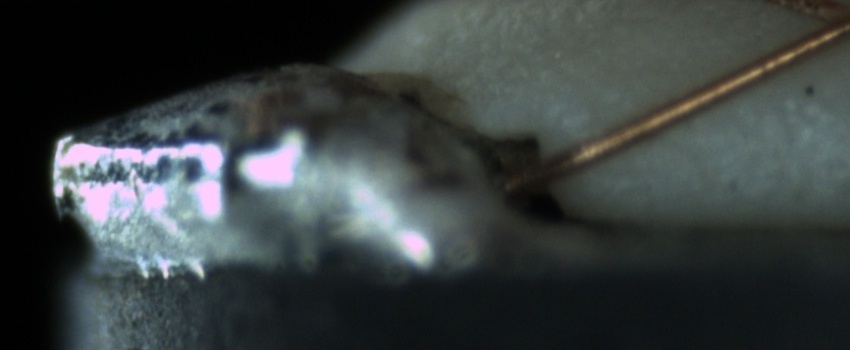CL: (779, 1, 848, 58)
